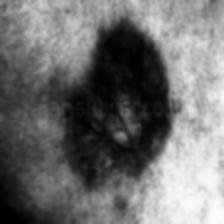Unclassified: (70, 28, 169, 186)
